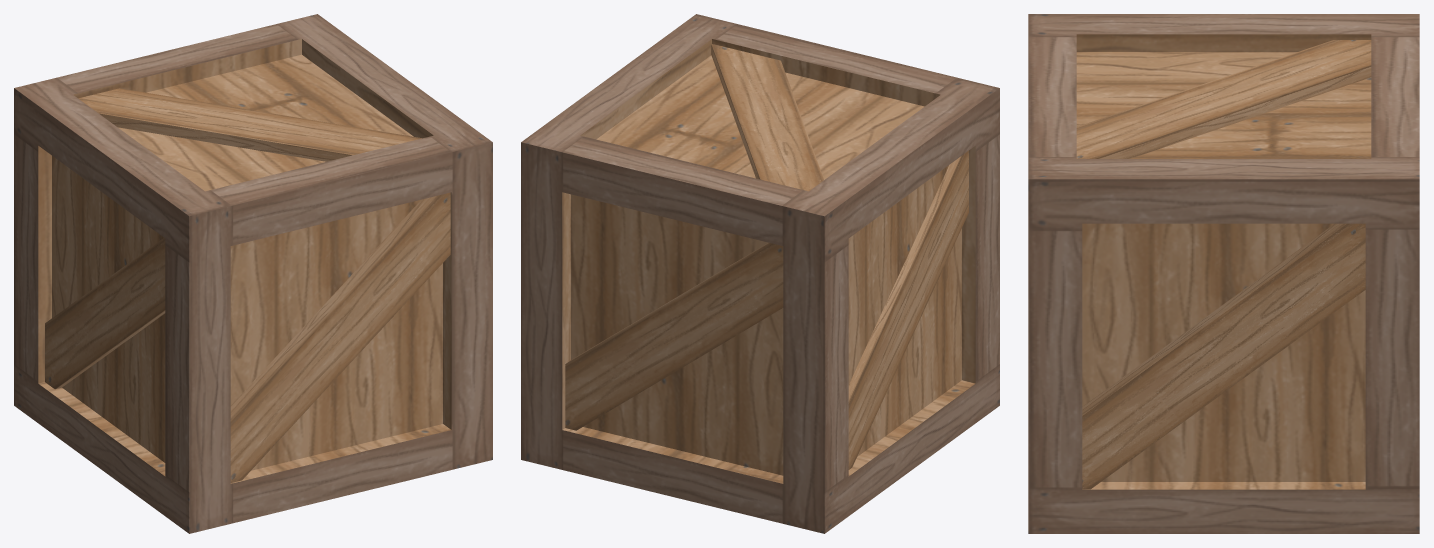
The model's file is doos.fbx.
3 renders of one model, left to right at view 1: azimuth 30°, elevation 25°; view 2: azimuth 150°, elevation 25°; view 3: azimuth 270°, elevation 25°, orthographic. The views are drawn at different scales.
Visible parts, largest first — view 1: pCube1, pCube2, pCube6, pCube5; view 2: pCube1, pCube4, pCube5, pCube6; view 3: pCube1, pCube3, pCube6.
Part boxes in pixels (bbox=[...]): pCube1: bbox=[14, 14, 492, 533]; pCube2: bbox=[230, 192, 450, 482]; pCube6: bbox=[78, 88, 421, 161]; pCube5: bbox=[45, 238, 165, 389]; pCube1: bbox=[521, 14, 999, 533]; pCube4: bbox=[565, 242, 783, 430]; pCube5: bbox=[848, 150, 968, 469]; pCube6: bbox=[711, 44, 823, 191]; pCube1: bbox=[1028, 14, 1419, 533]; pCube3: bbox=[1082, 223, 1365, 489]; pCube6: bbox=[1076, 40, 1371, 158].
Size of the model in its own units: 1 by 1 by 1.
